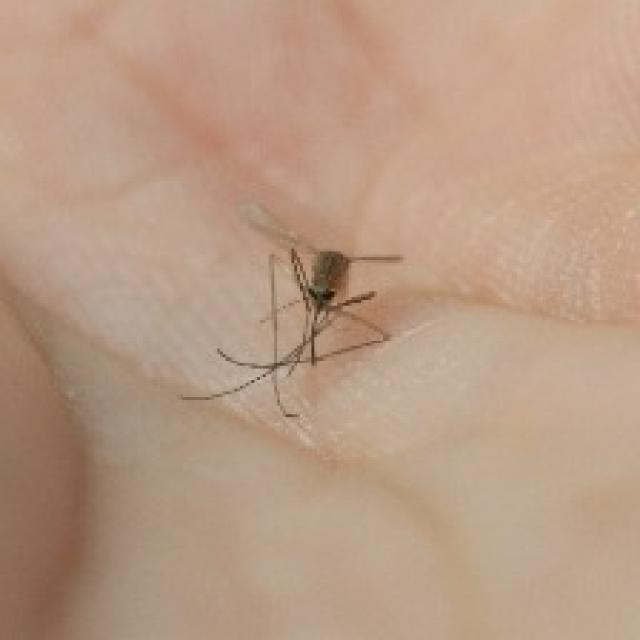culex: (177, 197, 403, 420)
